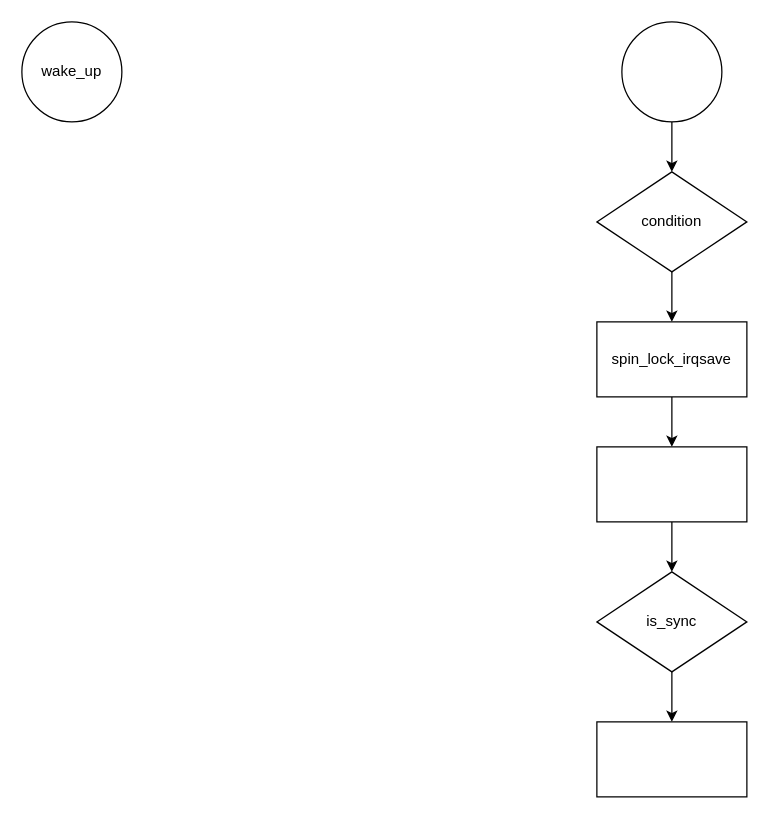
Some shapes in this 769 by 819 pixel diagram are drawn without their labels. The centre of each missing label's shape, as x and y in pixels:
__add_wait_queue: (x=671, y=484)
wait_event: (x=671, y=71)
